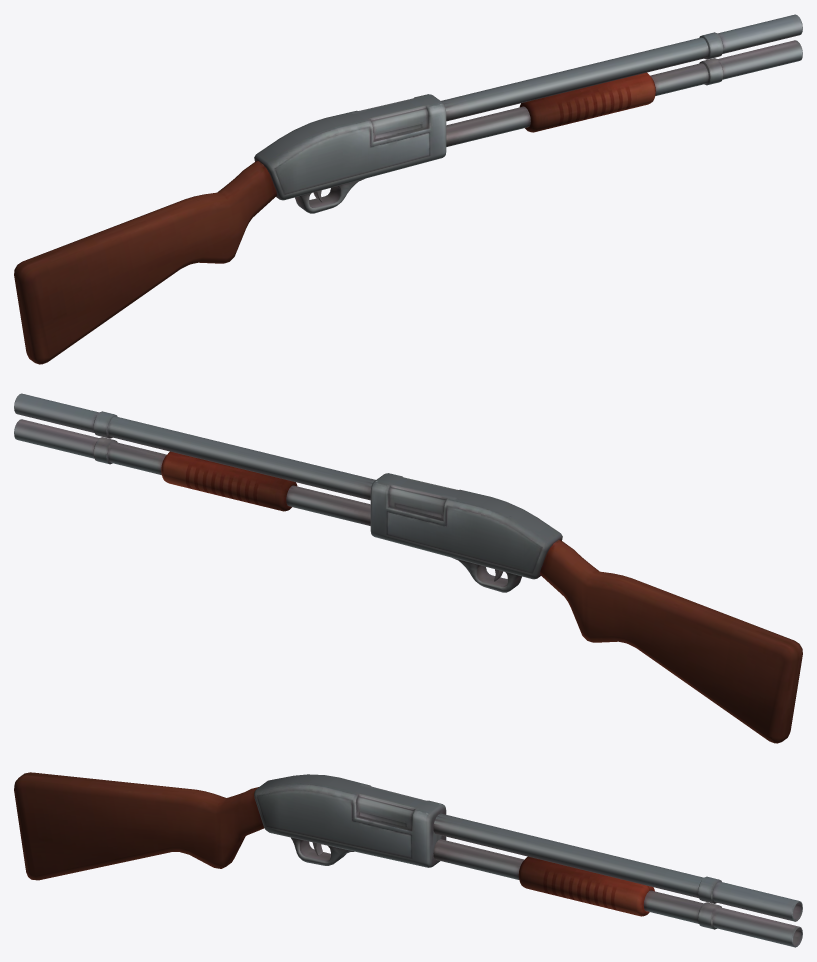
Rendered from shotgun.glb.
3 renders of one model, top to bottom at view 1: azimuth 30°, elevation 25°; view 2: azimuth 150°, elevation 25°; view 3: azimuth 330°, elevation 25°, orthographic.
Parts seen in each view (by area): view 1: shotgun, shotgunpomp; view 2: shotgun, shotgunpomp; view 3: shotgun, shotgunpomp.
Part boxes in pixels (x1,y1,x2,y2): shotgun: [14, 14, 802, 364]; shotgunpomp: [519, 72, 655, 132]; shotgun: [14, 393, 802, 743]; shotgunpomp: [161, 451, 297, 511]; shotgun: [14, 772, 802, 947]; shotgunpomp: [518, 856, 654, 916].
Size of the model in its own units: 0.6341 by 0.1305 by 0.0255.
Materials: 1 (1 with a texture image).
